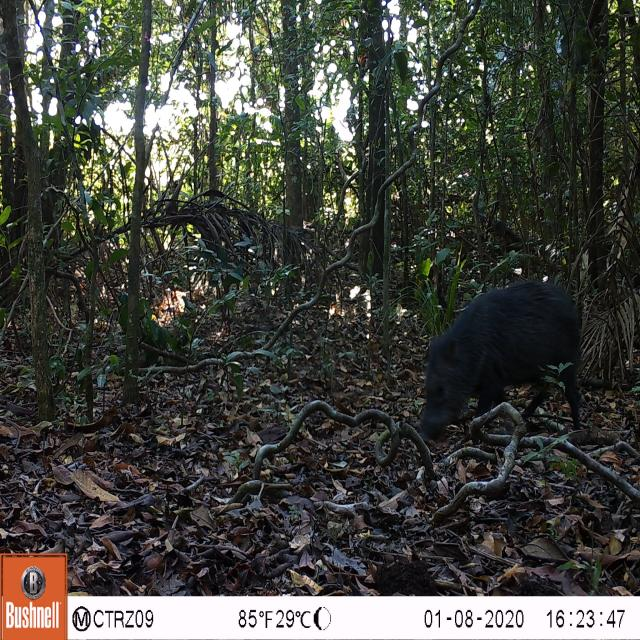Collared Peccary: (380, 257, 600, 447)
